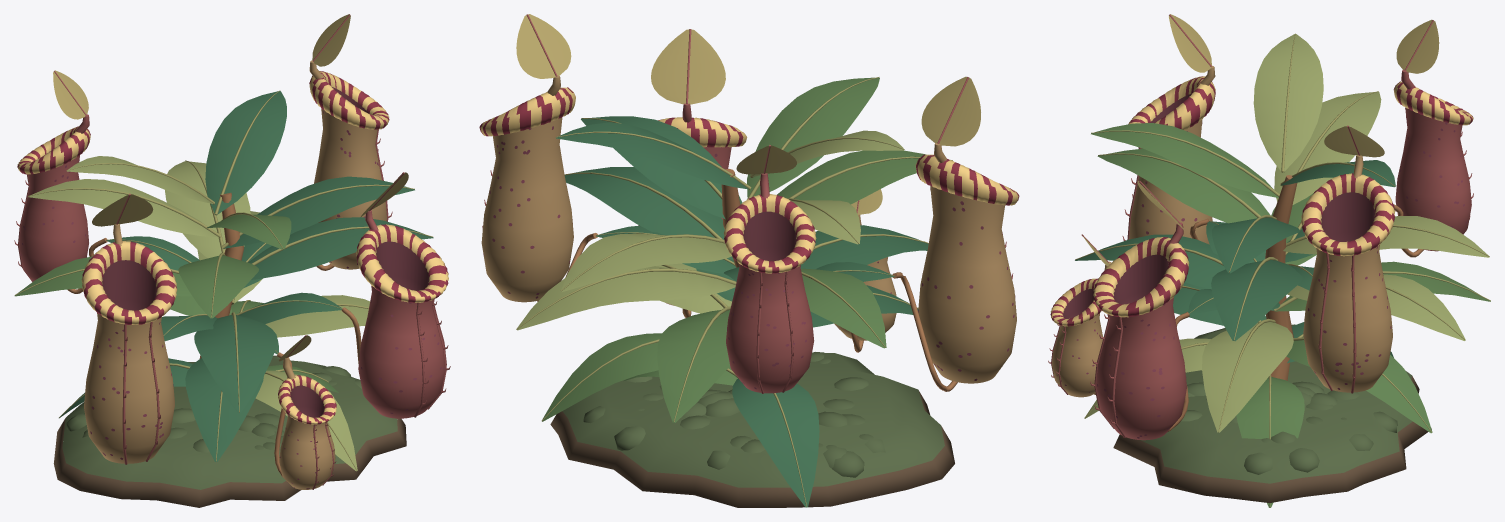
3 renders of one model, left to right at view 1: azimuth 30°, elevation 25°; view 2: azimuth 150°, elevation 25°; view 3: azimuth 270°, elevation 25°, orthographic. The views are drawn at different scales.
Visible parts, largest first — view 1: Rosette, Pitcher bodies, Root hummock, Fluted collars, Pitcher lids, Pitcher markings, Tendrils; view 2: Rosette, Pitcher bodies, Root hummock, Fluted collars, Pitcher lids, Pitcher markings, Tendrils; view 3: Rosette, Pitcher bodies, Root hummock, Fluted collars, Pitcher lids, Pitcher markings, Tendrils.
Boxes of the visible parts, x1,y1,x2,y2 form: Rosette: (14,90,433,471); Pitcher bodies: (19,108,446,489); Root hummock: (53,355,406,507); Fluted collars: (17,71,448,424); Pitcher lids: (53,14,408,379); Pitcher markings: (14,110,450,489); Tendrils: (67,238,361,482); Rosette: (516,77,952,507); Pitcher bodies: (481,117,1016,393); Root hummock: (550,352,954,507); Fluted collars: (479,87,1019,273); Pitcher lids: (516,14,980,225); Pitcher markings: (482,126,1015,393); Tendrils: (537,233,957,391); Rosette: (1075,33,1490,507); Pitcher bodies: (1052,107,1471,440); Root hummock: (1113,324,1431,502); Fluted collars: (1050,76,1473,326); Pitcher lids: (1081,14,1439,270); Pitcher markings: (1048,108,1473,438); Tendrils: (1094,204,1423,431).
Bounding box in the file's own units: 0.4413 × 0.4096 × 0.4196.
